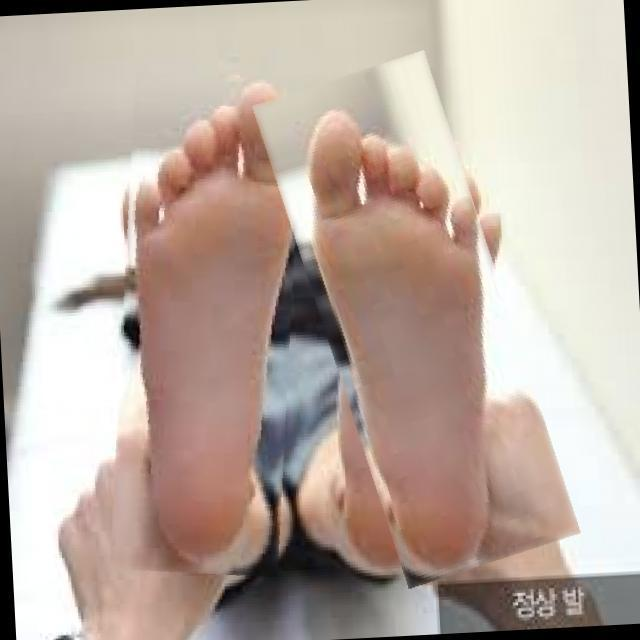No_Shoes: (312, 110, 512, 585), (95, 90, 291, 561)
